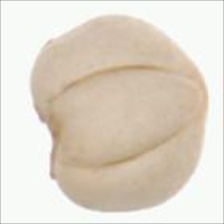L5: (45, 63, 210, 170), (28, 84, 78, 180)
L6: (27, 11, 209, 214)
